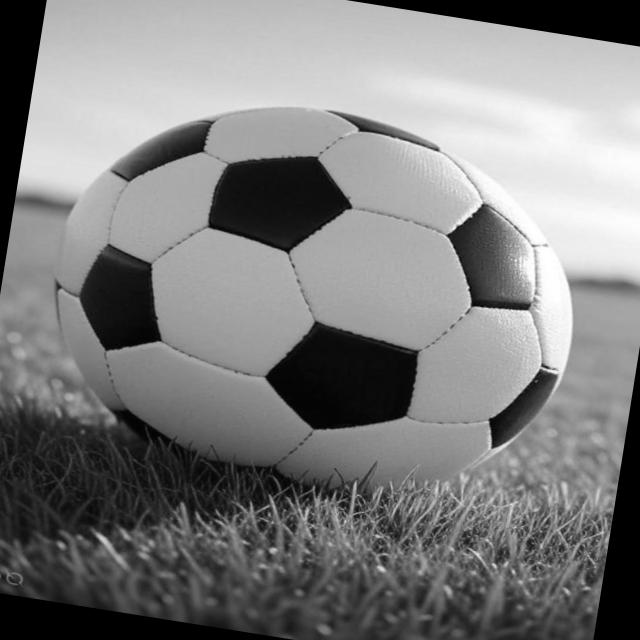football: (16, 63, 602, 526)
